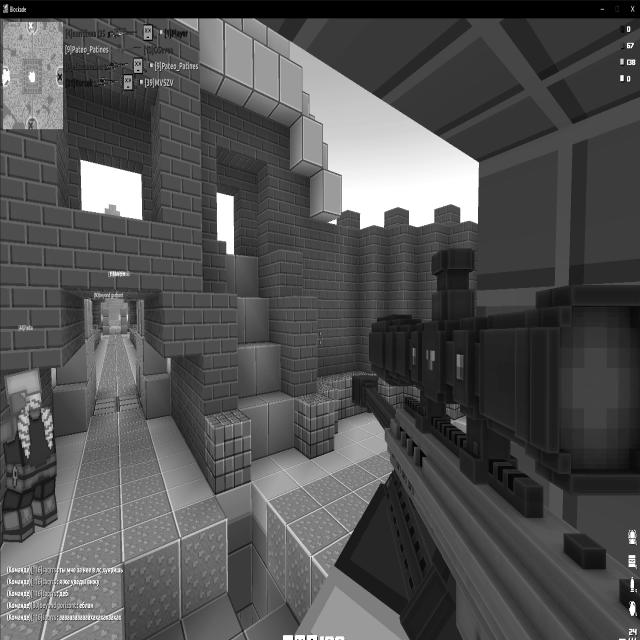Head: (4, 366, 46, 411)
Player: (0, 366, 58, 542)
